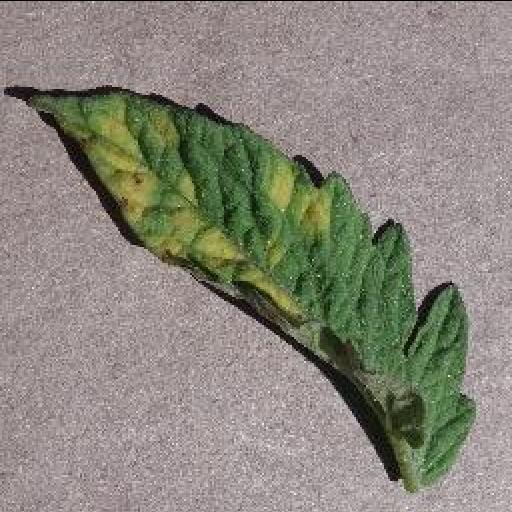disease_tomato: (24, 88, 476, 482)
